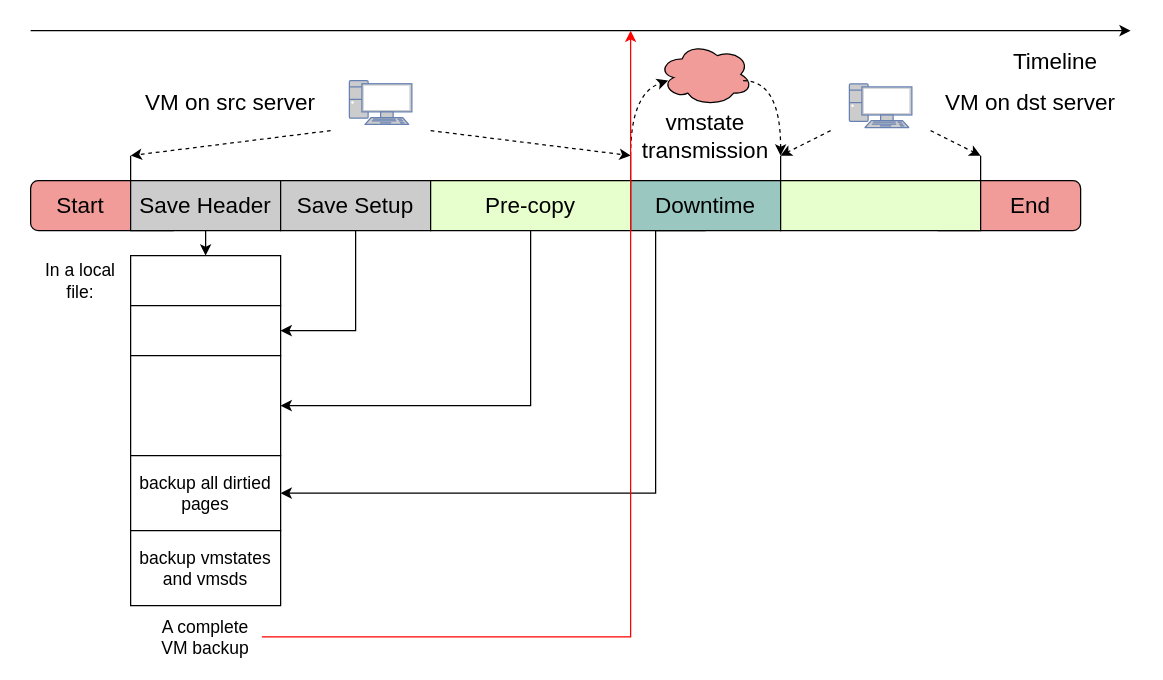
Some shapes in this 1163 by 680 pixel diagram are drawn without their labels. Each missing label, with the centre of its shape:
backup all pages: the point at 205,405
backup header: the point at 205,280
backup setup: the point at 205,330
Post-copy: the point at 880,205
